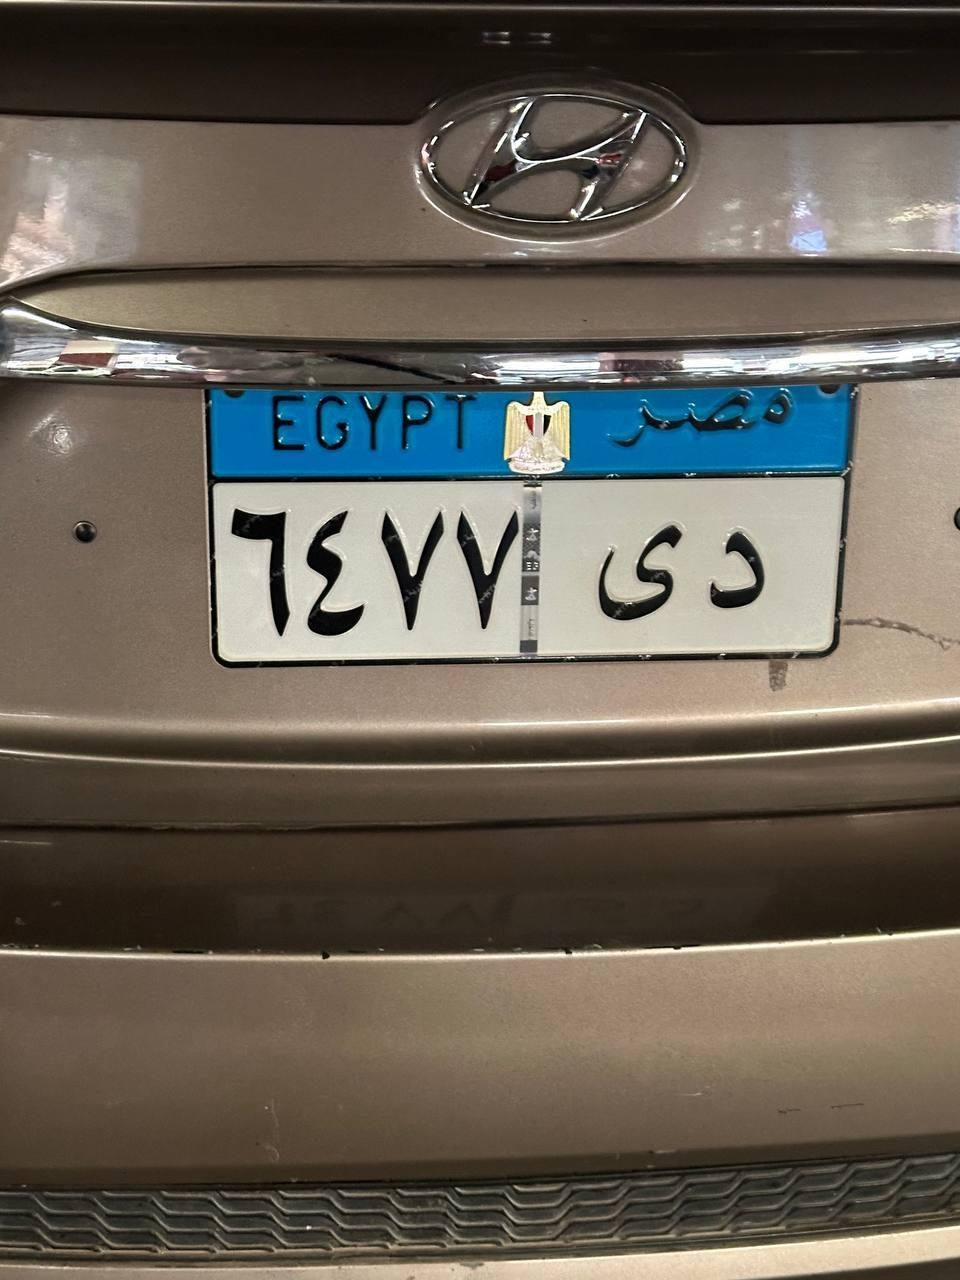4: (293, 508, 367, 638)
6: (226, 503, 298, 642)
7: (368, 498, 459, 622), (450, 502, 530, 623)
License Plate: (196, 371, 845, 665)
Yeeh: (596, 510, 686, 608)
daal: (706, 518, 770, 622)
